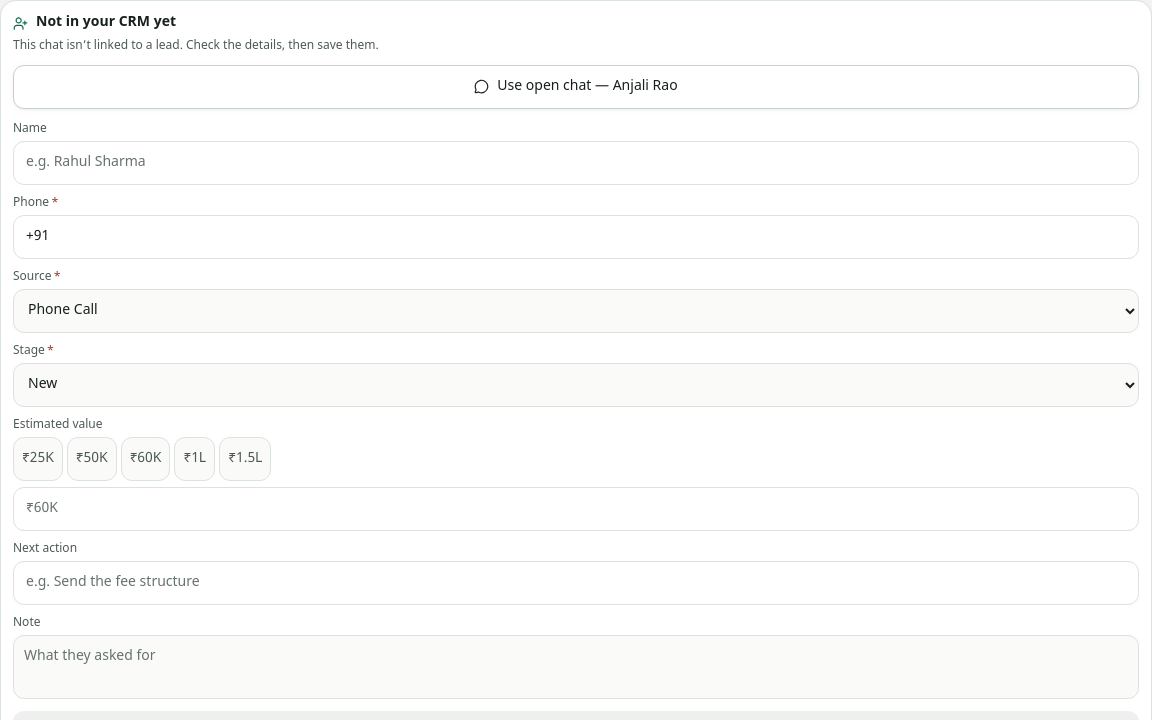
Test case: SaveLeadCard › copies the open WhatsApp chat in on one tap, and marks the source
What coordinates should you click on to do the following:
click the button "Use open chat — Anjali Rao"
I would click on:
 (576, 86)
Its box is [13,64,1139,108].
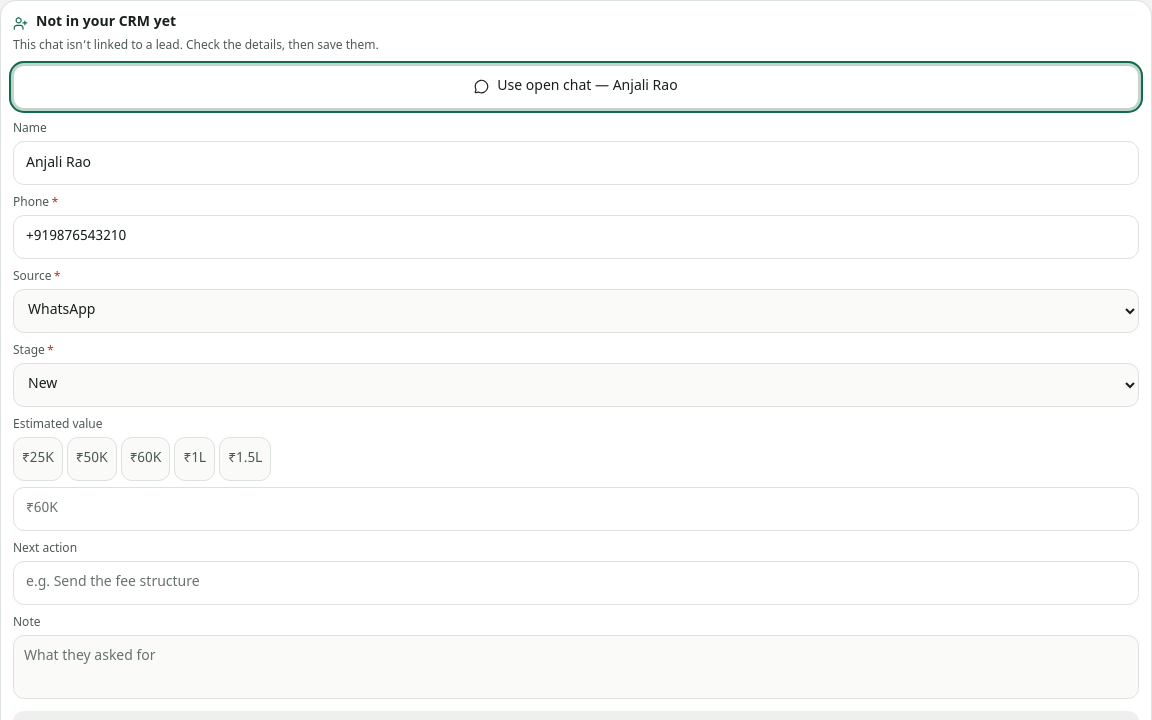
Expected: the field labelled "Name" holds "Anjali Rao", [13,140,1139,184]
Expected: the field labelled "Phone*" holds "+919876543210", [13,214,1139,258]
Expected: the dropdown labelled "Source*" shows "WhatsApp", [13,288,1139,332]
